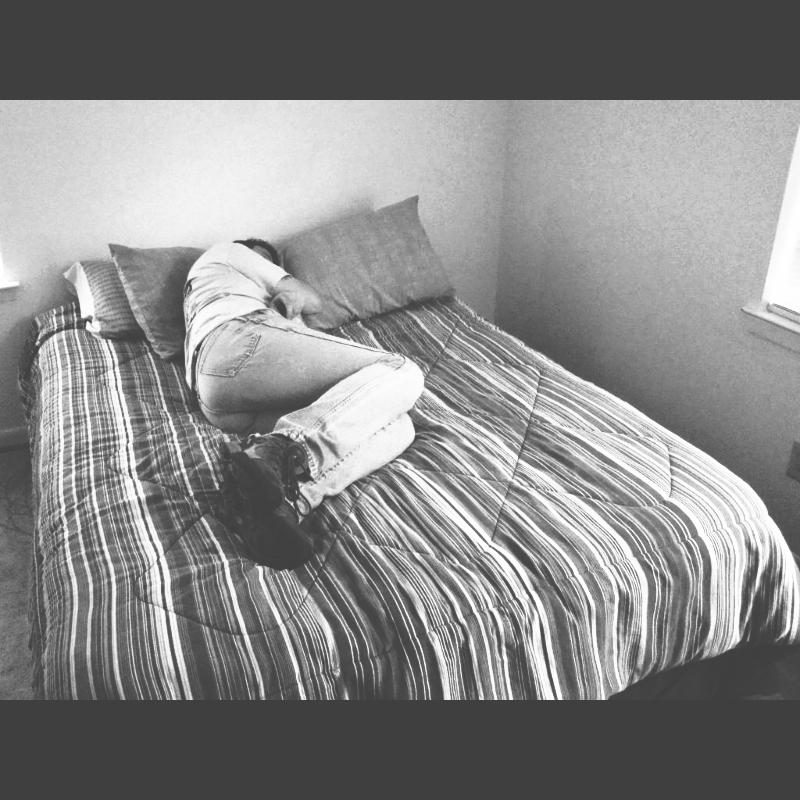pillow: (297, 196, 451, 312), (108, 241, 206, 359), (62, 256, 136, 338)
